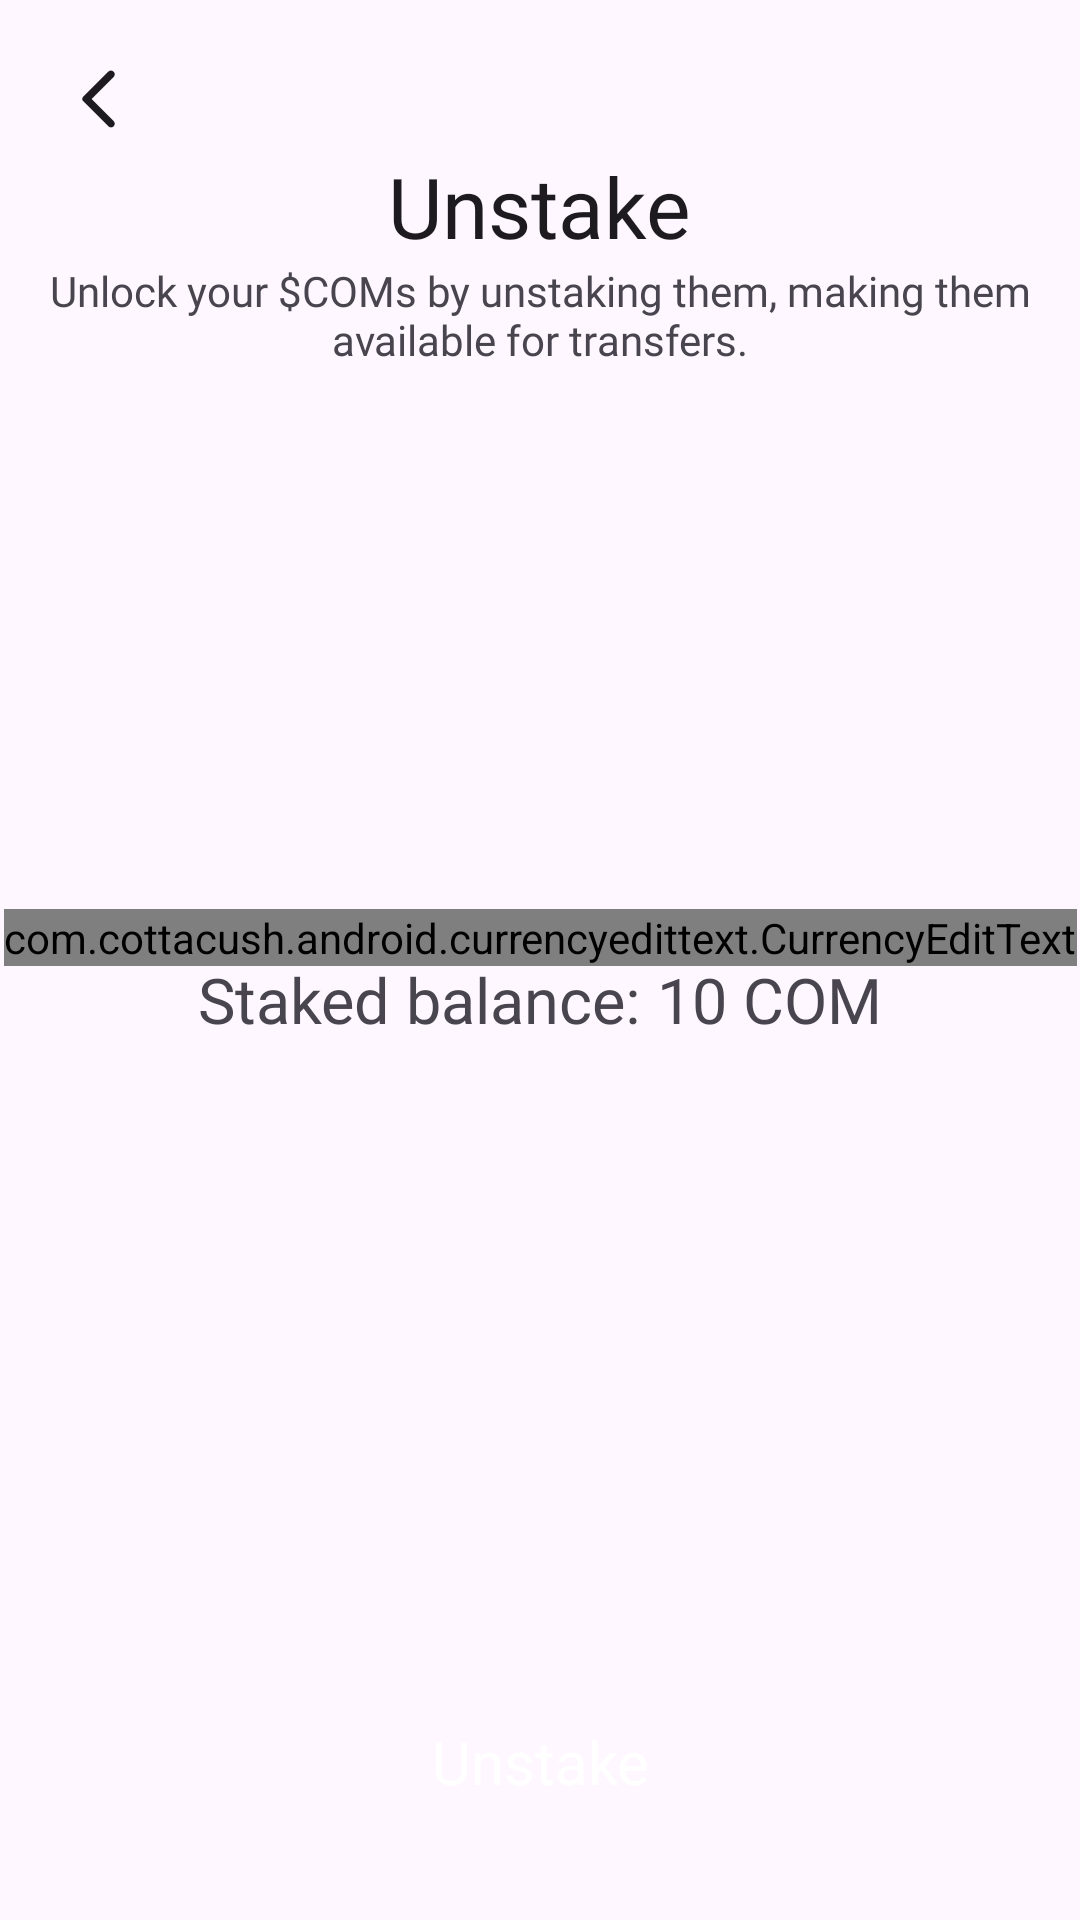

Locate icon controls on the screen. Image size 1080px×1920px, boxes as (x1, y1, x2, y2).
arrow back: (82, 70, 115, 128)
